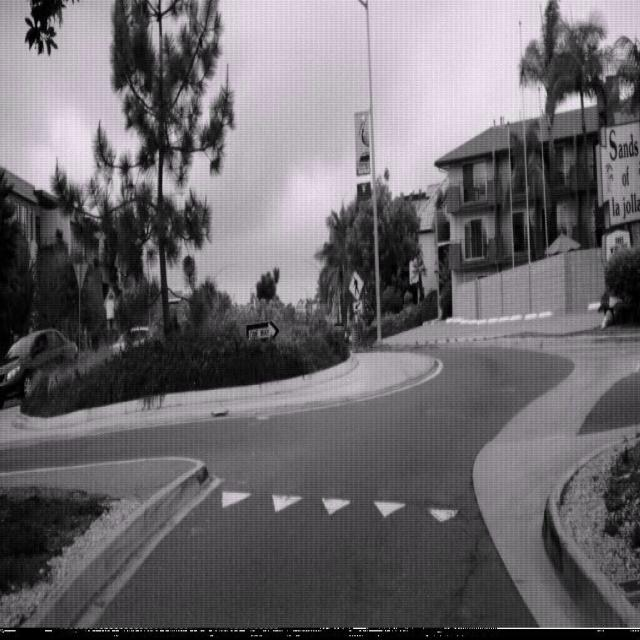pedestrianCrossing: (348, 270, 364, 303)
